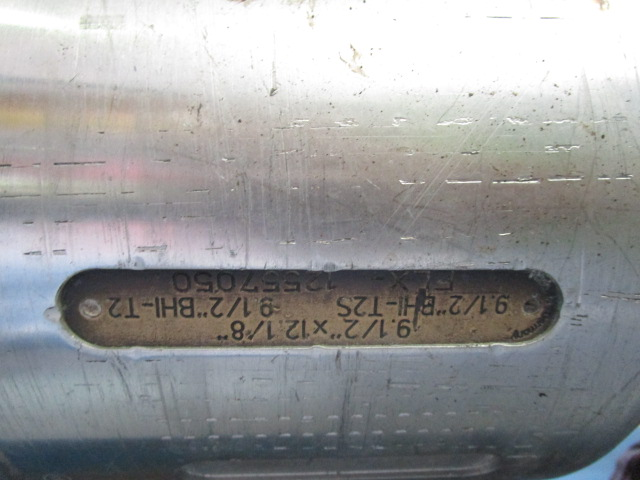character: (192, 269, 216, 295), (238, 268, 261, 295), (258, 269, 282, 294), (215, 269, 238, 295), (169, 270, 192, 295), (302, 268, 323, 295), (281, 270, 301, 296), (387, 270, 409, 293), (123, 295, 141, 323), (159, 296, 179, 321), (341, 318, 362, 340), (333, 295, 354, 317), (256, 296, 276, 319), (396, 317, 415, 341), (403, 292, 421, 317), (359, 318, 380, 339), (419, 293, 437, 317), (229, 318, 246, 343), (446, 293, 464, 316), (223, 296, 241, 319), (351, 294, 368, 318), (178, 296, 195, 320), (248, 320, 265, 342), (207, 296, 224, 318), (494, 294, 510, 317), (108, 296, 122, 322), (285, 318, 300, 342), (312, 316, 329, 337), (367, 295, 383, 317), (464, 293, 479, 316), (324, 269, 337, 292), (241, 296, 254, 318), (264, 320, 277, 340), (379, 317, 391, 338), (480, 294, 490, 318), (394, 293, 404, 317), (300, 317, 309, 339), (153, 295, 160, 319), (142, 299, 154, 310), (387, 298, 397, 308)
